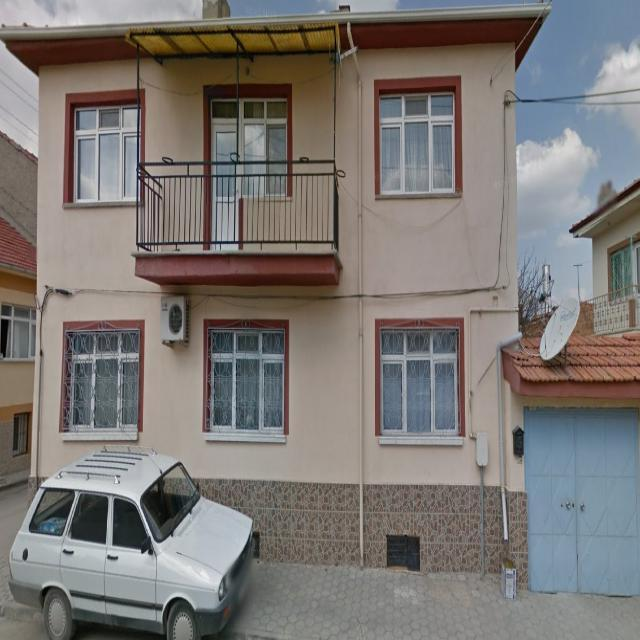Building: (1, 3, 554, 576)
